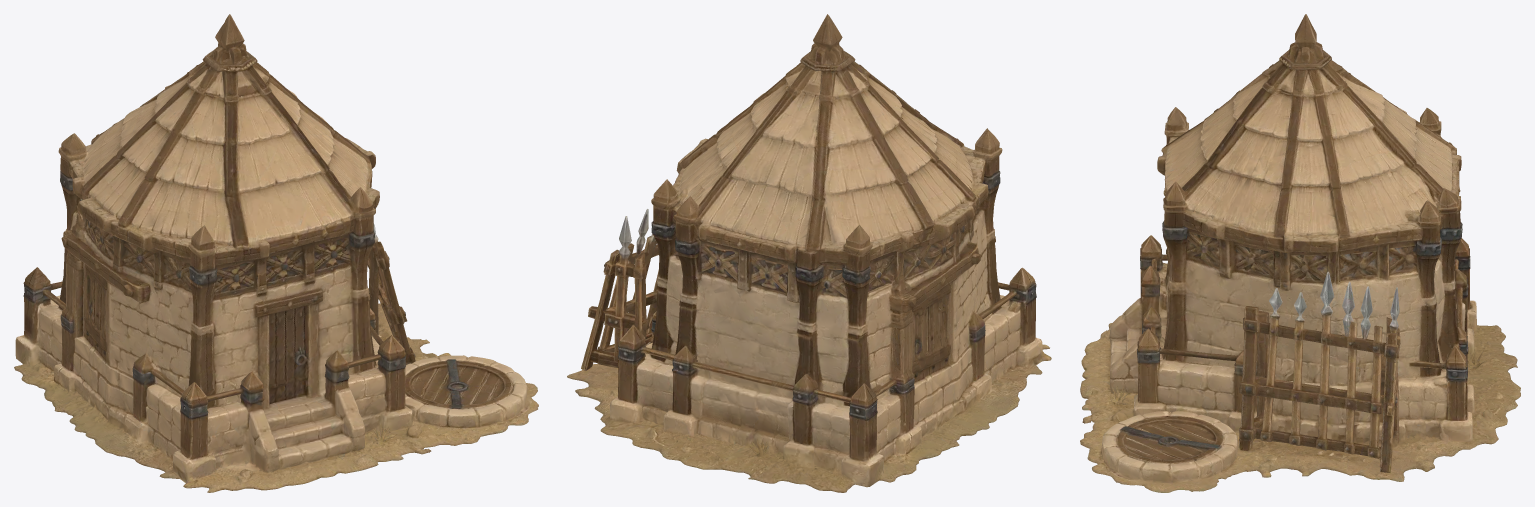
The model's file is PitWard.glb.
3 renders of one model, left to right at view 1: azimuth 30°, elevation 25°; view 2: azimuth 150°, elevation 25°; view 3: azimuth 270°, elevation 25°, orthographic. The views are drawn at different scales.
Size of the model in its own units: 1.9 by 1.75 by 1.9.
Materials: 1 (1 with a texture image).
